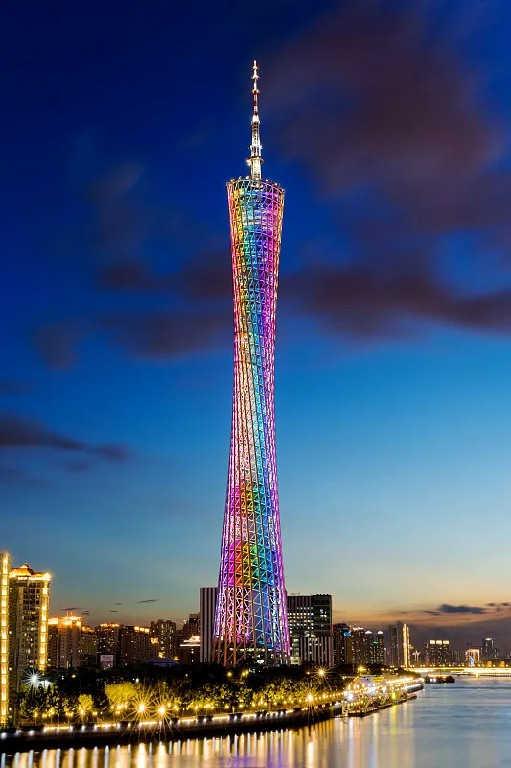Canton: (209, 57, 298, 665)
